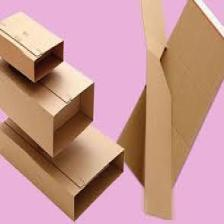cardboard: (127, 5, 224, 207), (1, 126, 127, 202), (0, 62, 102, 153), (0, 2, 62, 78)
